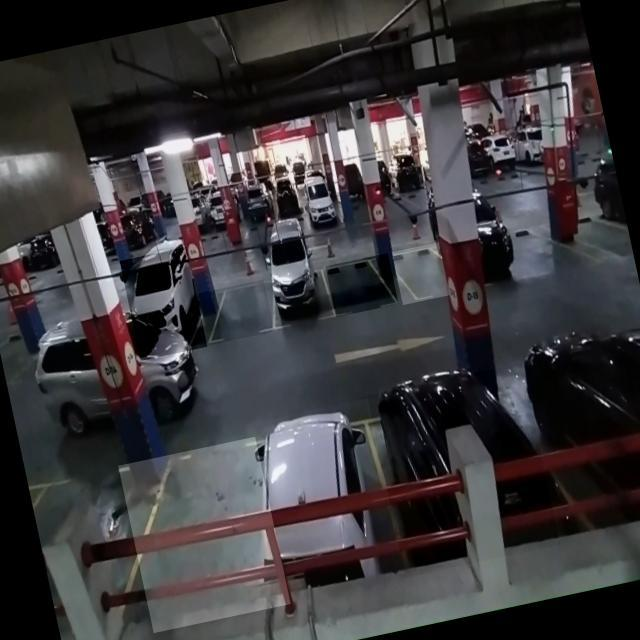empty: (117, 436, 290, 633), (196, 278, 279, 345), (321, 252, 398, 318), (391, 242, 450, 304)
occupied: (361, 362, 560, 578), (244, 398, 404, 599), (120, 247, 206, 361), (254, 224, 336, 330)
